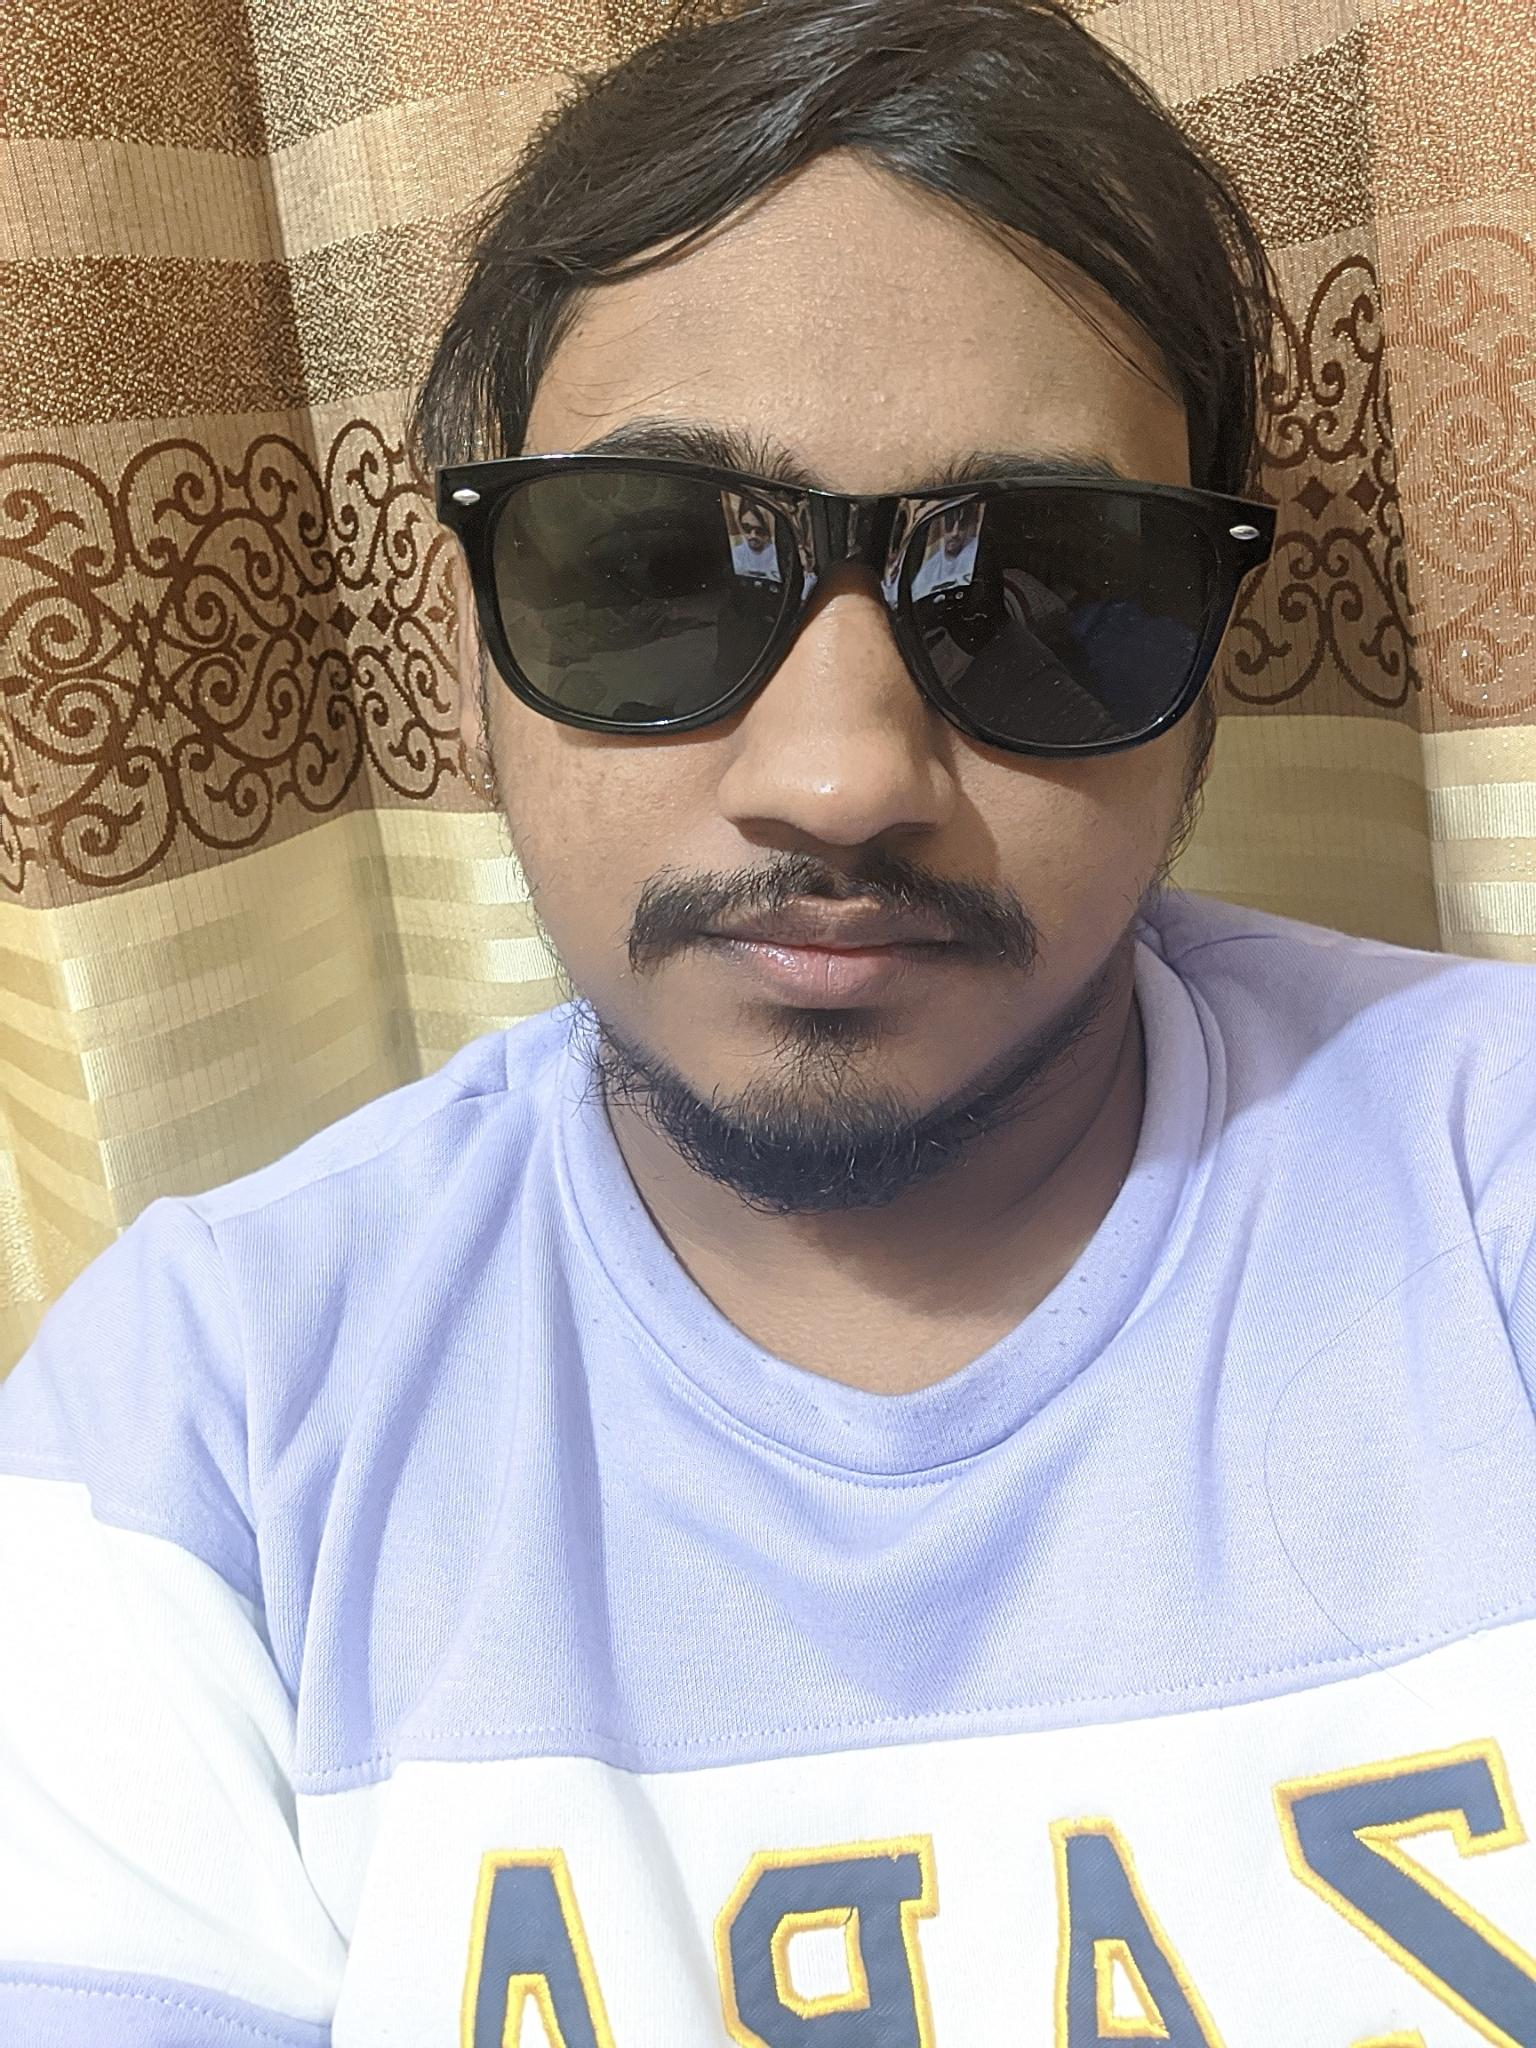Neutral: (481, 331, 1191, 1184)
